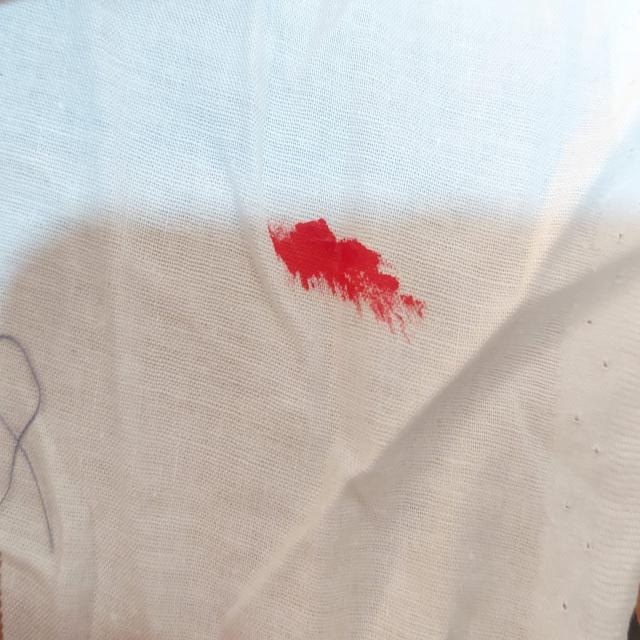Stain: (264, 216, 431, 346)
Thread: (0, 328, 59, 556)
